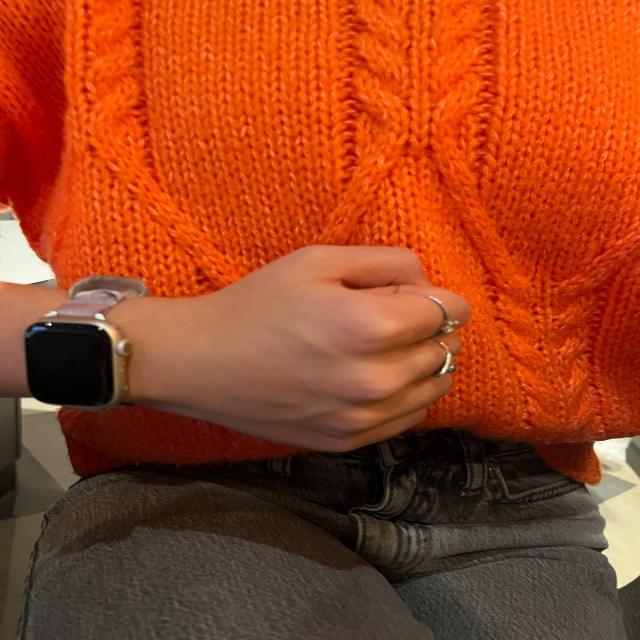a: (176, 220, 511, 475)
